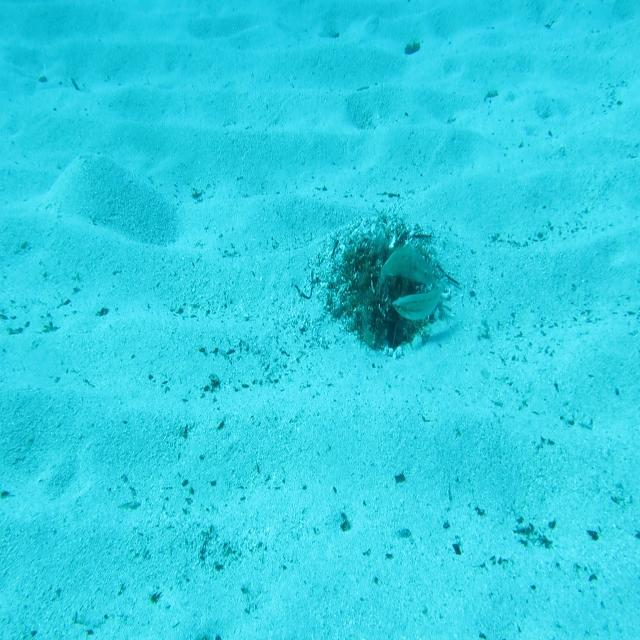DAN_CIRC: (376, 241, 436, 292)
female: (392, 270, 448, 323)
nest: (322, 210, 458, 360)
